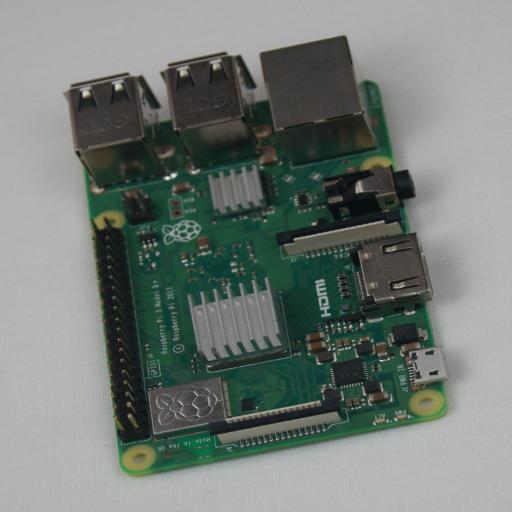Raspberry Pi 3 B-: (67, 36, 448, 476)
